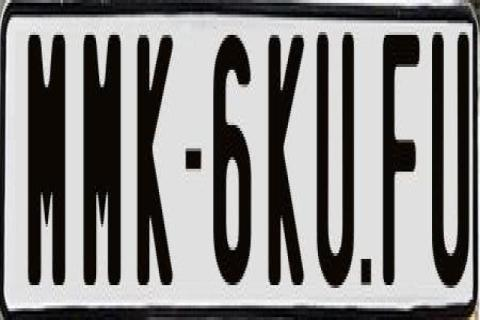0: (210, 32, 248, 291)
F: (382, 32, 419, 296)
K: (270, 35, 308, 299), (134, 27, 172, 286)
M: (84, 35, 125, 291), (28, 32, 68, 285)
U: (316, 32, 356, 306), (432, 32, 463, 288)
